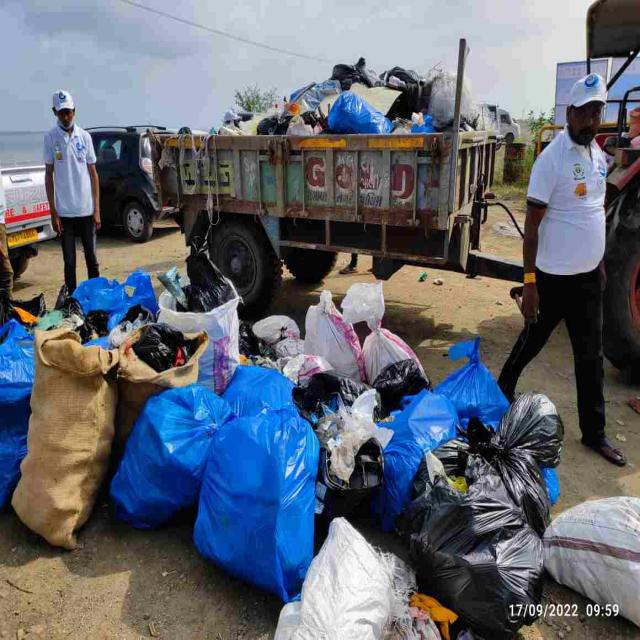tui_ni_long: (404, 456, 545, 639), (194, 405, 319, 603), (109, 385, 233, 529), (292, 518, 394, 640), (545, 497, 640, 627), (372, 390, 458, 531), (315, 441, 403, 556), (341, 282, 425, 384), (158, 290, 239, 395), (435, 337, 510, 428), (0, 321, 34, 508), (304, 291, 366, 380), (72, 269, 157, 331), (496, 392, 566, 467), (293, 370, 369, 424), (183, 237, 237, 312), (221, 365, 293, 417), (496, 527, 545, 601), (373, 358, 430, 417), (132, 324, 197, 372), (328, 90, 391, 133), (381, 65, 428, 119), (331, 56, 381, 90)
